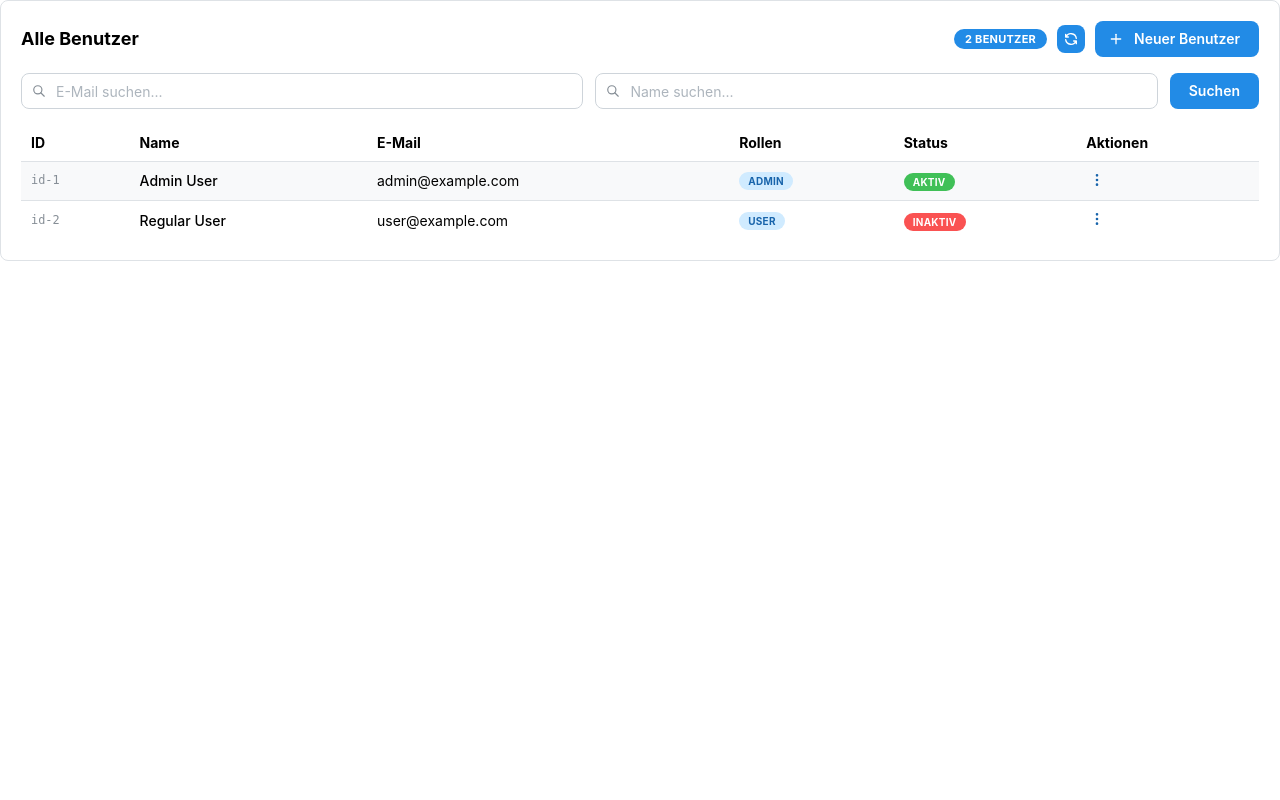
Test: UserList › beendet die Sessions eines Benutzers
Expected: the text "admin@example.com" is shown, [377,172,519,189]
Click the button without text in the row of "id-1" at [1097, 180], box [1086,169,1108,191]
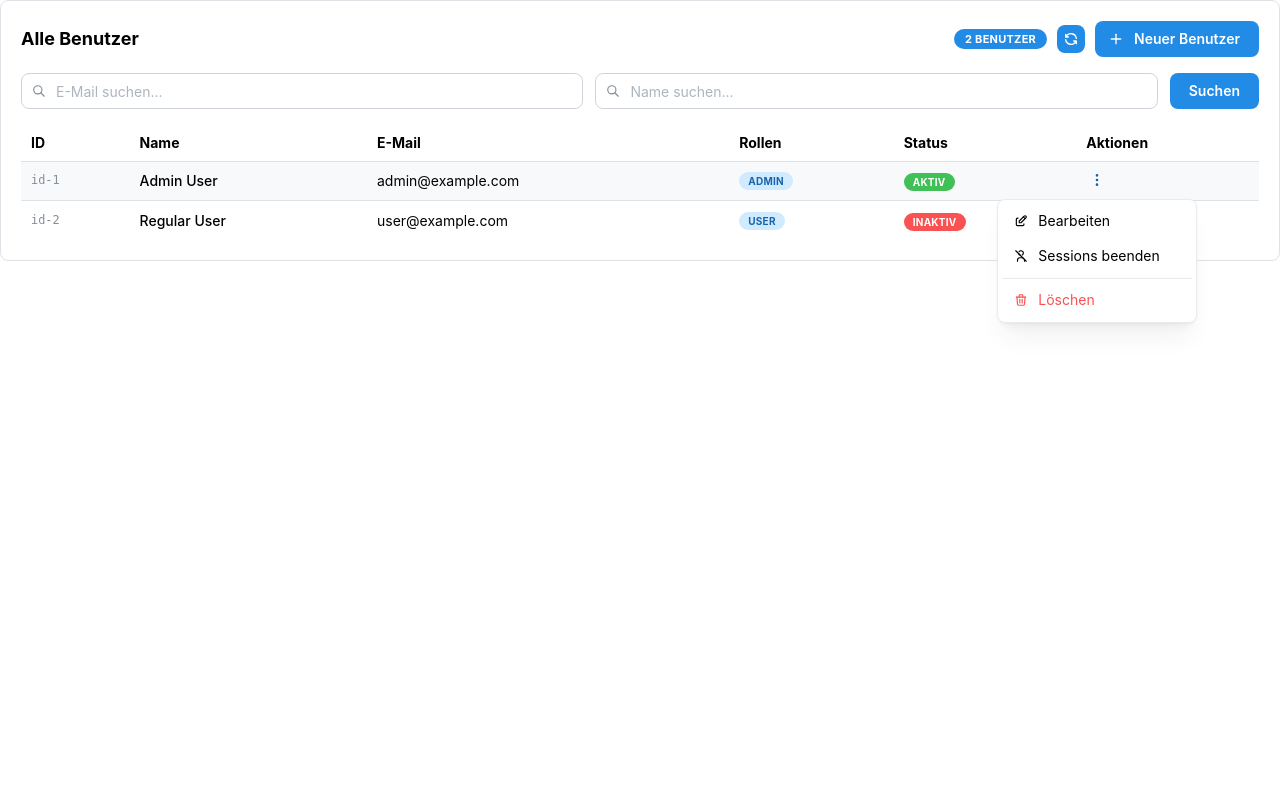
Click the menu item "Sessions beenden" at [1097, 256], box [1002,239,1192,274]
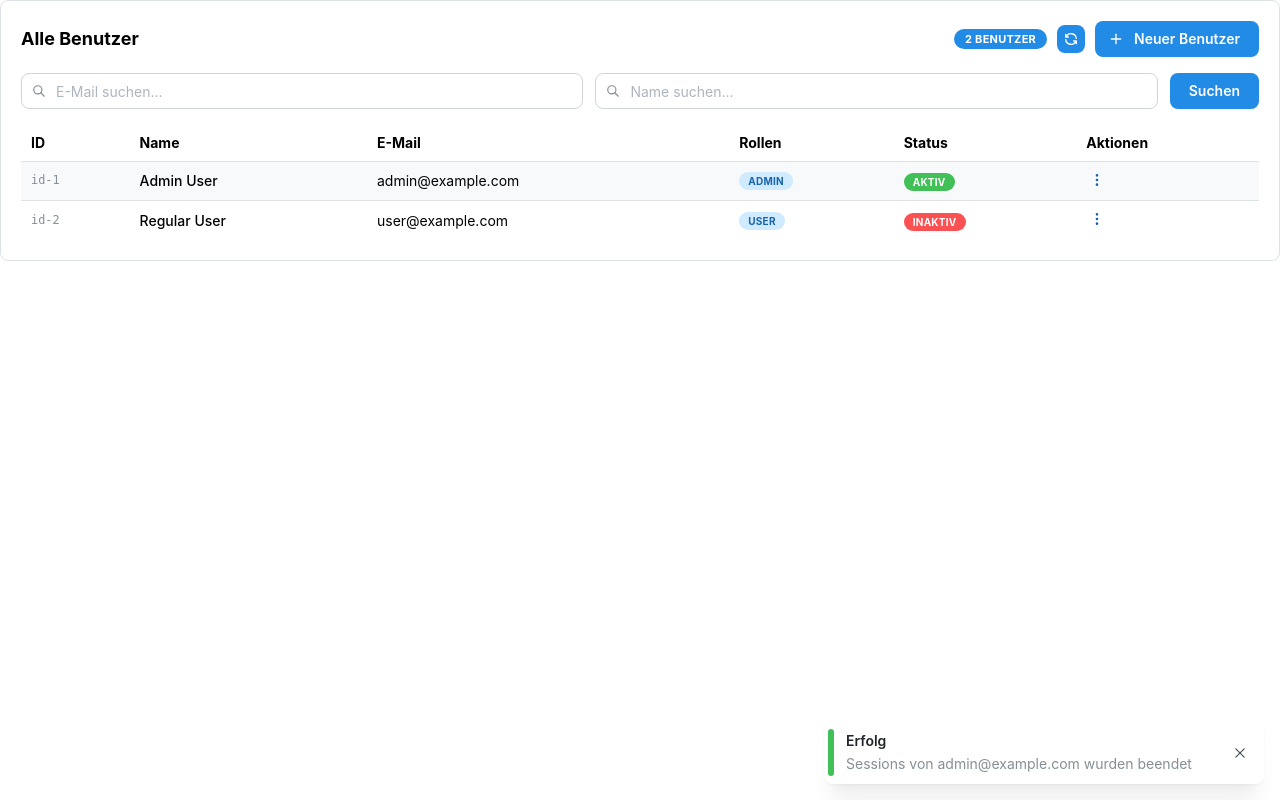
Expected: the text "Sessions von admin@example.com wurden beendet" is shown, [846,754,1216,774]
